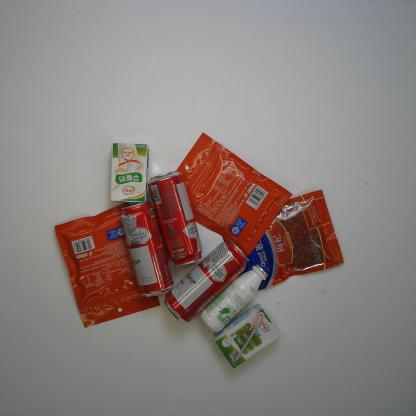Alcohol: (163, 238, 250, 324), (119, 200, 175, 299), (147, 170, 203, 266)
Dried Fruit: (176, 131, 293, 257), (53, 205, 161, 330), (222, 188, 345, 292)
Milk: (199, 263, 270, 334), (211, 301, 283, 371), (108, 142, 150, 204)
